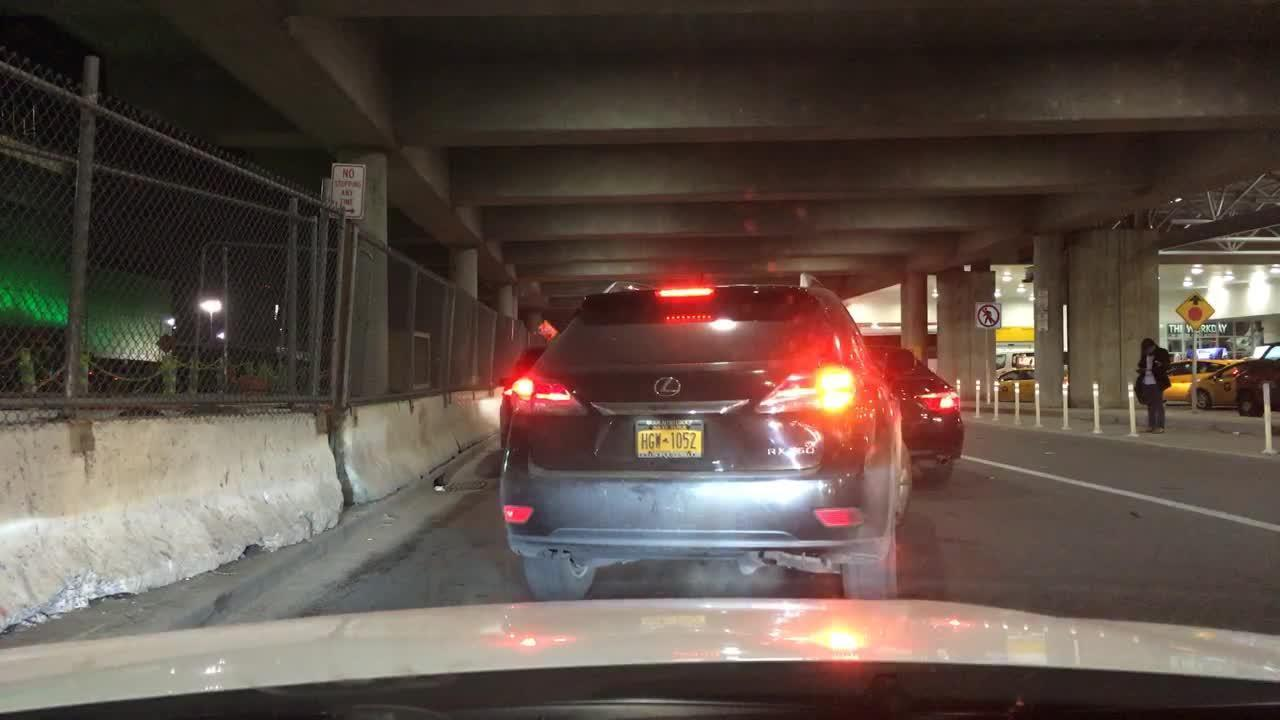lexus: (646, 367, 691, 402)
